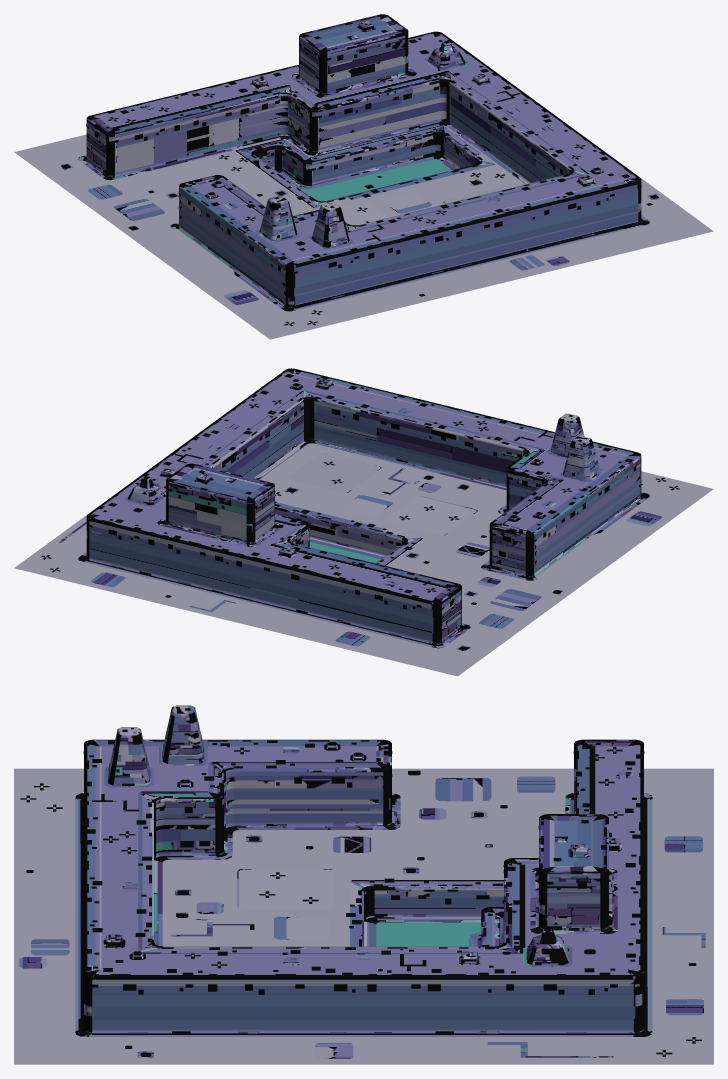
The model's file is C_cave1_06.fbx.
3 views of the same model, one above another, from view 1: azimuth 30°, elevation 25°; view 2: azimuth 150°, elevation 25°; view 3: azimuth 270°, elevation 25° (orthographic). The views are drawn at different scales.
Visible parts, largest first — view 1: model; view 2: model; view 3: model.
Part boxes in pixels (box(x1,y1,x2,y2)): model: box(14, 14, 713, 339); model: box(14, 368, 713, 676); model: box(14, 705, 713, 1064).
Size of the model in its own units: 50 by 13.22 by 50.
1 material, 1 textured.
